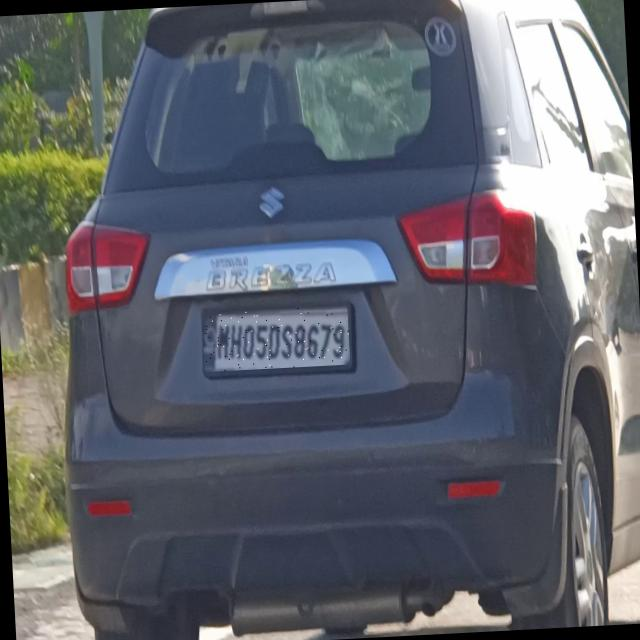Plate: (203, 307, 352, 374)
